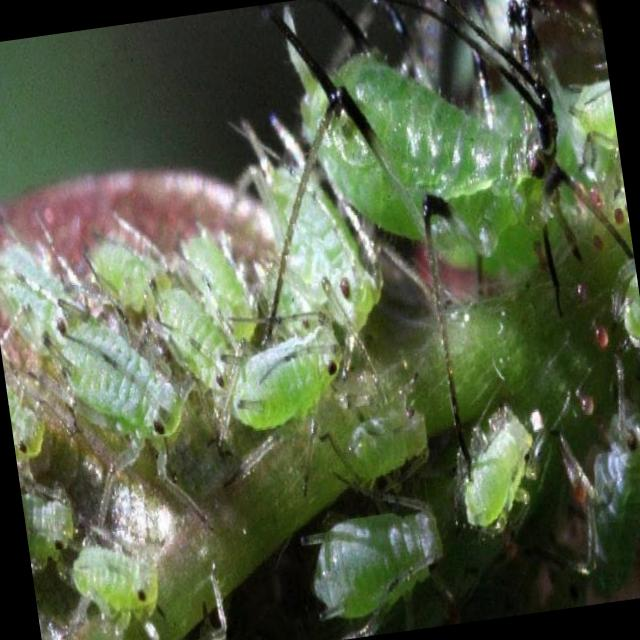aphid: (285, 11, 615, 382), (43, 290, 216, 524), (249, 137, 388, 370), (210, 286, 366, 466), (432, 376, 574, 562), (298, 492, 462, 628), (557, 381, 640, 594), (61, 514, 184, 640), (152, 275, 246, 410), (318, 393, 442, 495), (79, 214, 185, 328)
